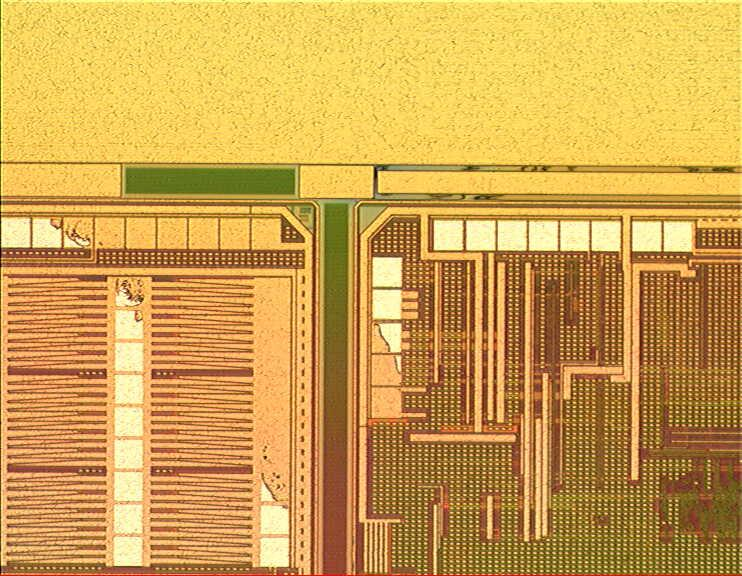COATING BAD: (42, 208, 448, 576)
